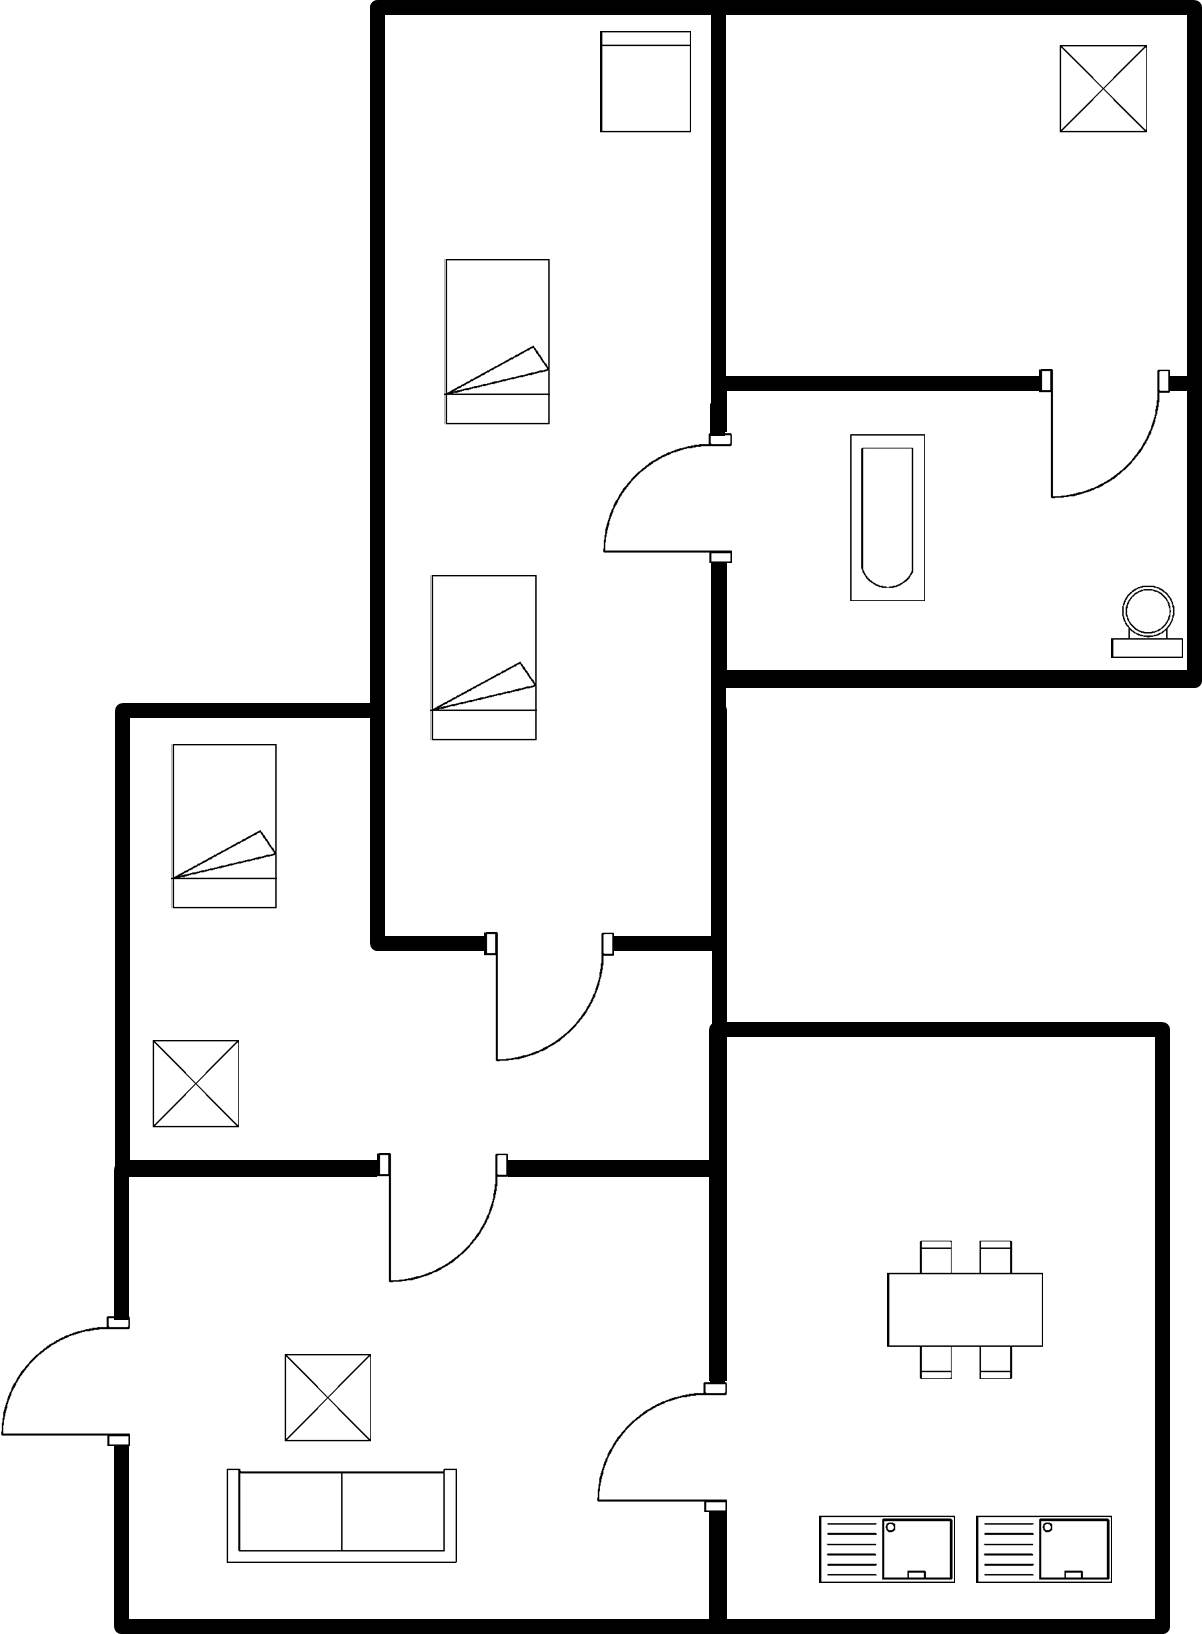bed: (433, 249, 568, 440), (423, 567, 549, 753), (162, 727, 285, 919)
coffee_table: (1042, 34, 1158, 146), (273, 1345, 382, 1453), (142, 1030, 254, 1135)
dining_table: (869, 1232, 1066, 1395)
large_sink: (1100, 578, 1189, 670)
large_sofa: (211, 1460, 468, 1573)
sink: (968, 1502, 1122, 1594), (808, 1507, 963, 1595)
small_sofa: (590, 21, 701, 143)
tub: (838, 422, 938, 618)
